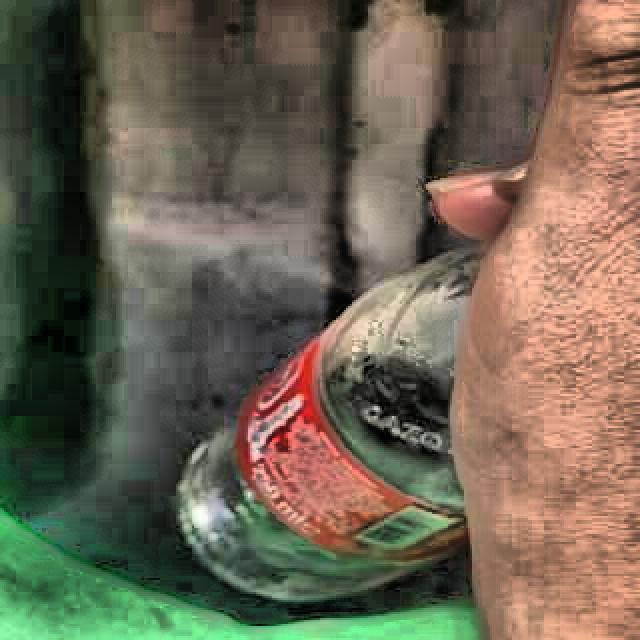glass: (181, 248, 483, 601)
